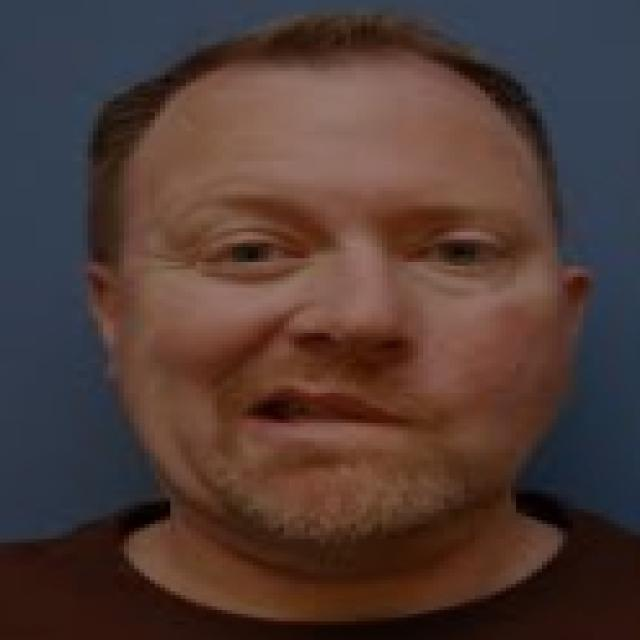stroke_face: (80, 22, 598, 562)
